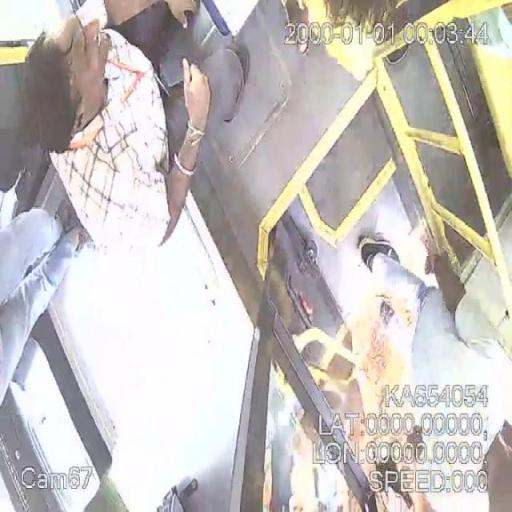persona: (16, 2, 214, 256), (349, 231, 512, 512)
